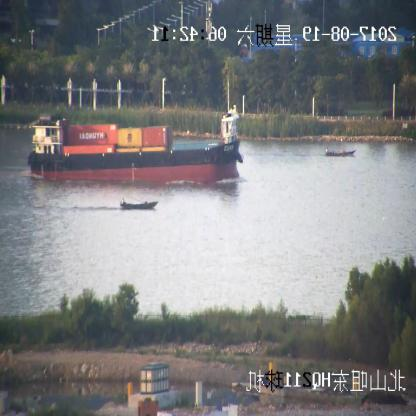Fishing Boat: (119, 199, 159, 211), (324, 147, 356, 157)
